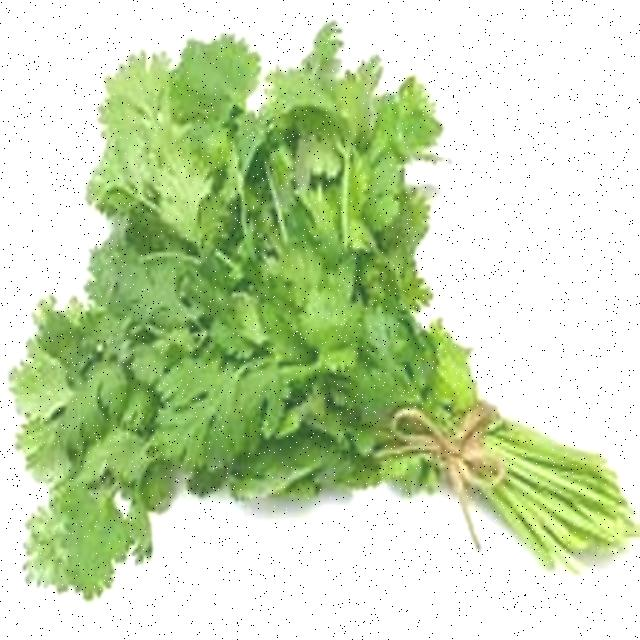Coriander: (71, 29, 597, 566)
